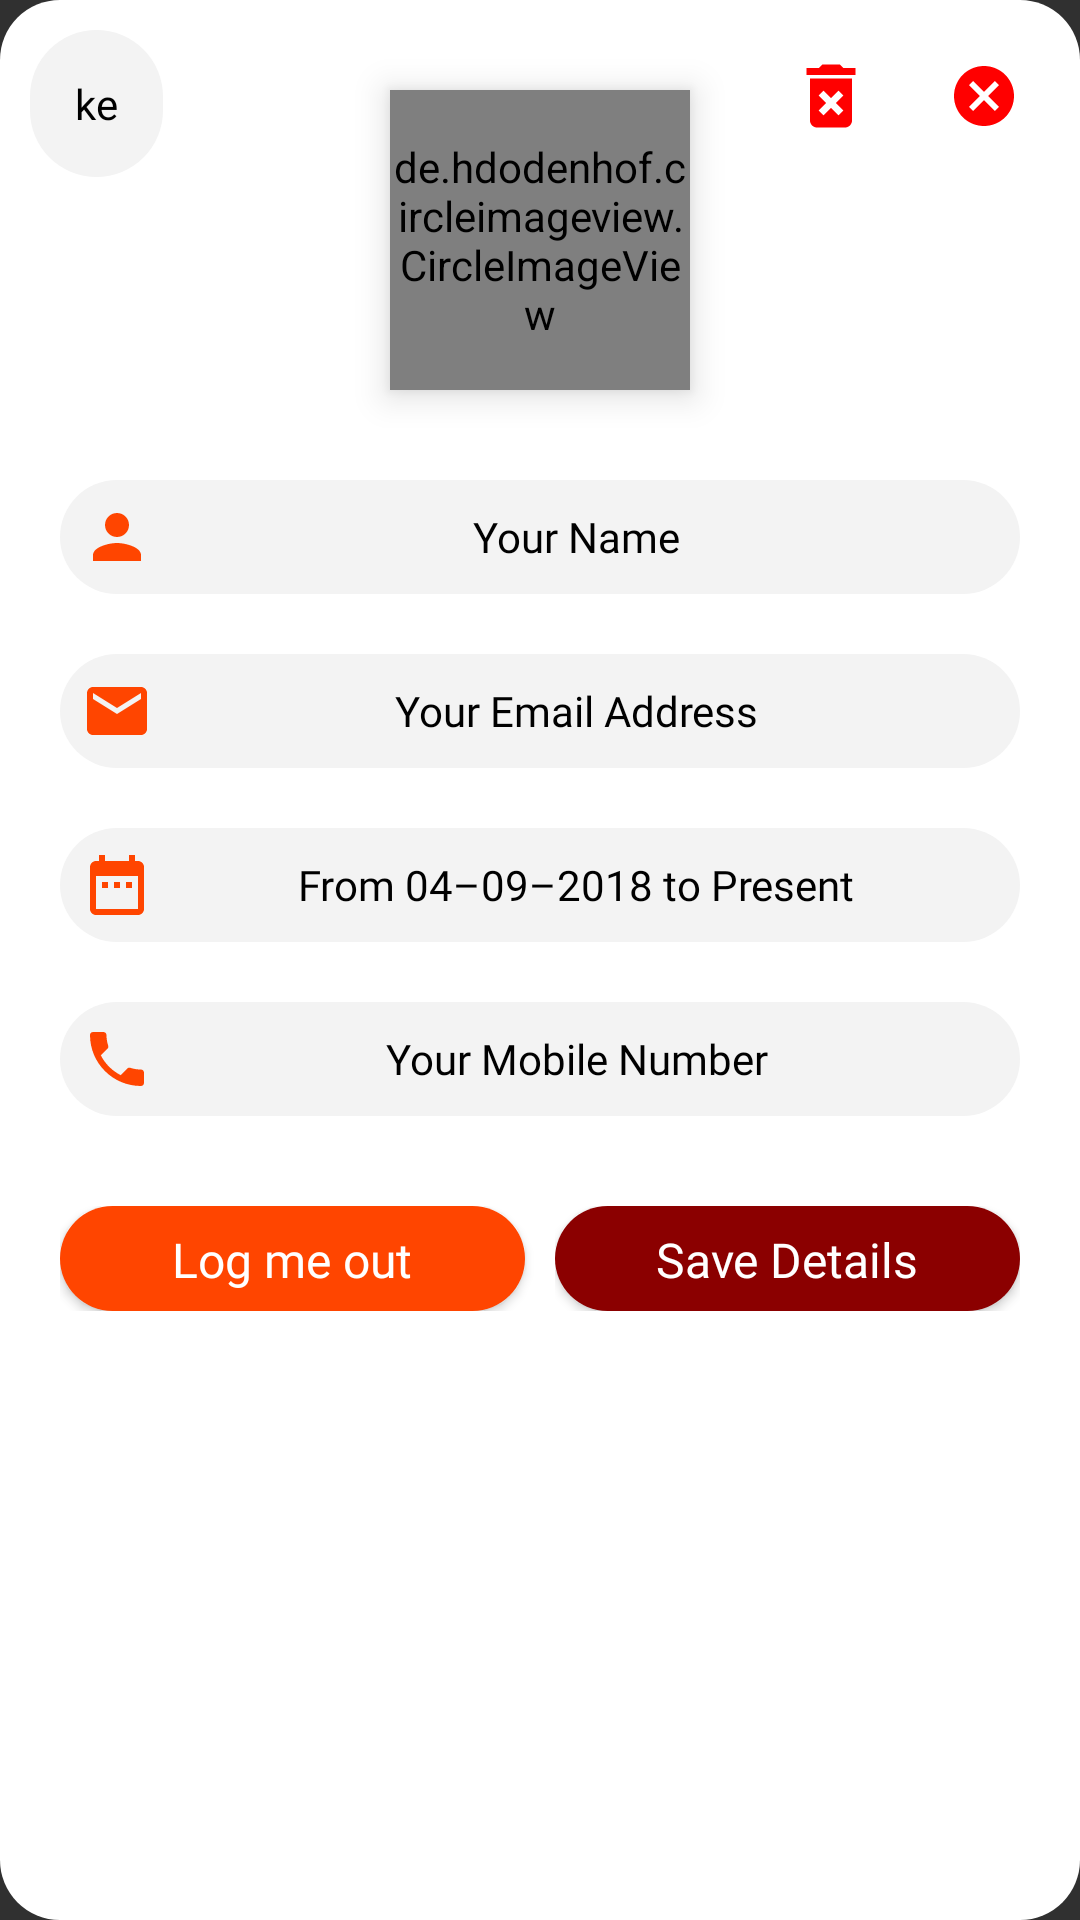

Icon bounding boxes for this 1080×1920 phone screenshot, format (x1, y1, x2, y2):
cancel: (954, 66, 1014, 126)
delete forever: (806, 64, 856, 128)
